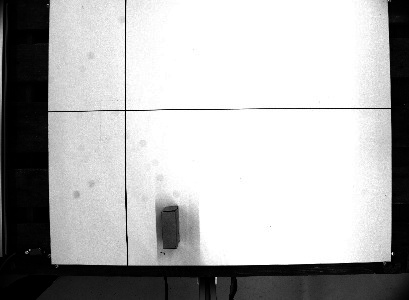b1: (158, 203, 182, 250)
